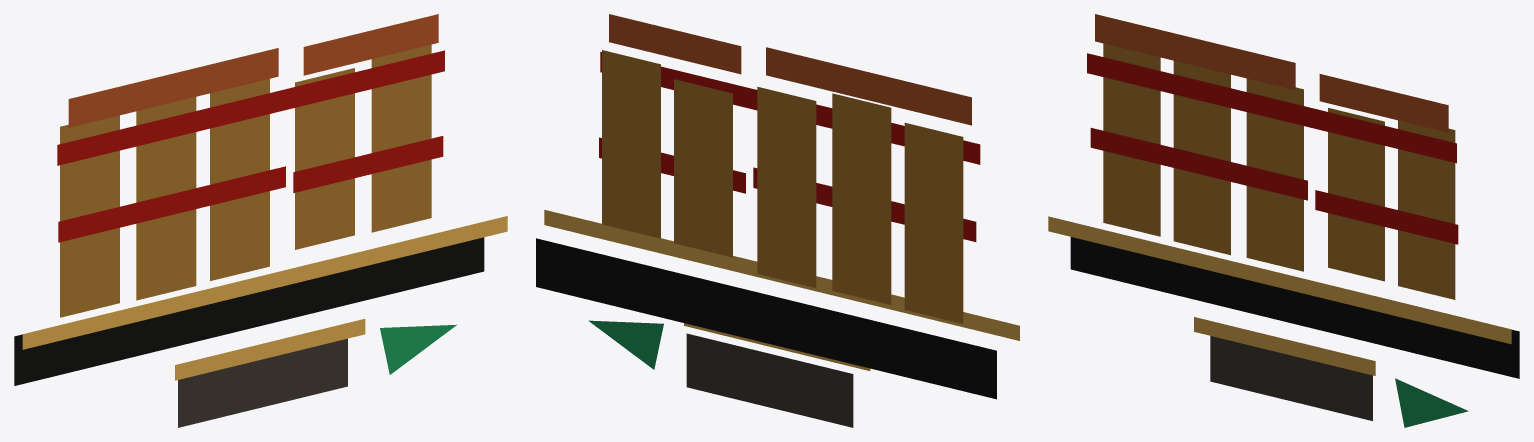
File: V134WPP_003_AmmoPickupReadabilityPolish_Staged.obj
The picture shows the model from 3 angles, left to right: view 1: azimuth 30°, elevation 25°; view 2: azimuth 150°, elevation 25°; view 3: azimuth 330°, elevation 25°; orthographic projection. The views are drawn at different scales.
Visible parts, largest first — view 1: ammo_pressure_cell_cluster_a, ammo_cradle_blackened_iron, ammo_red_pressure_seal_bands, ammo_pressure_cell_cluster_b, ammo_polished_wear_edges, ammo_copper_nozzle_caps, ammo_slug_canister_variant, ammo_route_green_pickup_tick; view 2: ammo_pressure_cell_cluster_a, ammo_cradle_blackened_iron, ammo_pressure_cell_cluster_b, ammo_copper_nozzle_caps, ammo_slug_canister_variant, ammo_polished_wear_edges, ammo_red_pressure_seal_bands, ammo_route_green_pickup_tick; view 3: ammo_pressure_cell_cluster_a, ammo_cradle_blackened_iron, ammo_red_pressure_seal_bands, ammo_pressure_cell_cluster_b, ammo_polished_wear_edges, ammo_copper_nozzle_caps, ammo_slug_canister_variant, ammo_route_green_pickup_tick.
Part boxes in pixels (x1,y1,x2,y2): ammo_pressure_cell_cluster_a: (60,79,269,317); ammo_cradle_blackened_iron: (14,237,484,385); ammo_red_pressure_seal_bands: (57,50,444,242); ammo_pressure_cell_cluster_b: (295,44,431,249); ammo_polished_wear_edges: (22,216,507,380); ammo_copper_nozzle_caps: (68,14,438,127); ammo_slug_canister_variant: (178,338,347,427); ammo_route_green_pickup_tick: (380,324,456,374); ammo_pressure_cell_cluster_a: (757,86,963,323); ammo_cradle_blackened_iron: (536,238,996,399); ammo_pressure_cell_cluster_b: (602,50,732,257); ammo_copper_nozzle_caps: (609,14,971,125); ammo_slug_canister_variant: (686,333,853,427); ammo_polished_wear_edges: (544,210,1019,370); ammo_red_pressure_seal_bands: (599,52,980,241); ammo_route_green_pickup_tick: (588,320,663,369); ammo_pressure_cell_cluster_a: (1103,43,1303,271); ammo_cradle_blackened_iron: (1070,237,1519,378); ammo_red_pressure_seal_bands: (1087,53,1458,244); ammo_pressure_cell_cluster_b: (1328,108,1455,299); ammo_polished_wear_edges: (1048,216,1511,375); ammo_copper_nozzle_caps: (1095,14,1448,132); ammo_slug_canister_variant: (1210,336,1372,420); ammo_route_green_pickup_tick: (1395,378,1468,427).
Bounding box in the file's own units: 0.97 × 0.69 × 0.055.
